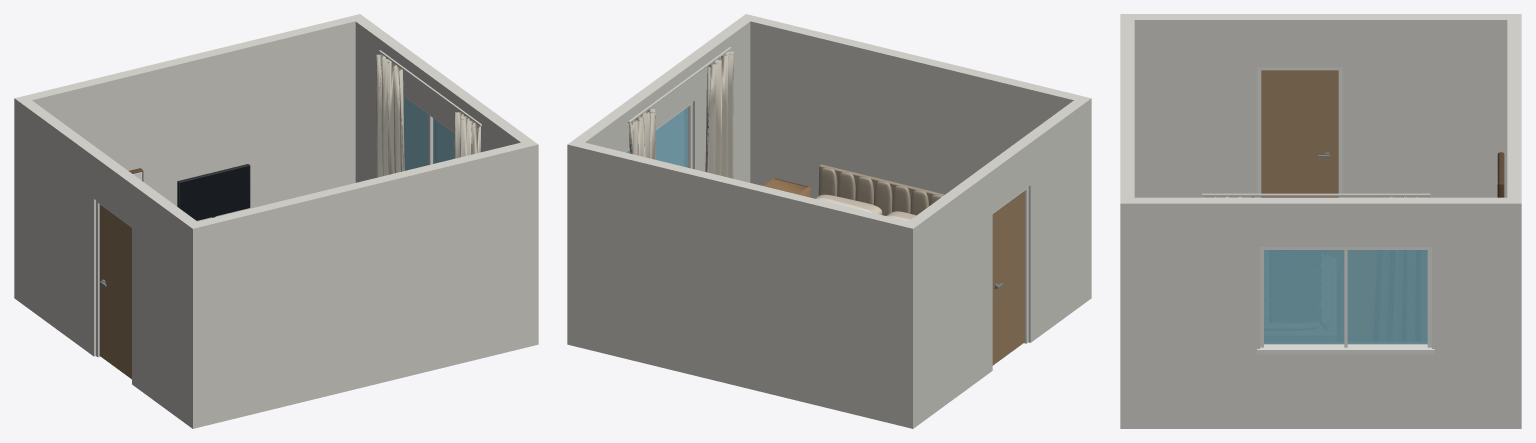
Rendered from oursv11b.glb.
The picture shows the model from 3 angles, left to right: view 1: azimuth 30°, elevation 25°; view 2: azimuth 150°, elevation 25°; view 3: azimuth 270°, elevation 25°; orthographic projection. The views are drawn at different scales.
Visible parts, largest first — view 1: wall|scenesmith_047__R00|0, wall|scenesmith_047__R00|1, wall|scenesmith_047__R00|2, wall|scenesmith_047__R00|3, wall|scenesmith_047__R00|2 Door 0 | wood leaf, Option V2 softly draped left linen panel, Display image, wall|scenesmith_047__R00|3 Window 0 | glazing, wall|scenesmith_047__R00|2 Door 0 | jamb; view 2: wall|scenesmith_047__R00|1, wall|scenesmith_047__R00|0, wall|scenesmith_047__R00|2, wall|scenesmith_047__R00|3, wall|scenesmith_047__R00|2 Door 0 | wood leaf, Option V2 softly draped left linen panel, V2 padded headboard backing, wall|scenesmith_047__R00|3 Window 0 | glazing, wall|scenesmith_047__R00|2 Door 0 | jamb, V2 rear sleeping pillow; view 3: wall|scenesmith_047__R00|3, wall|scenesmith_047__R00|2, wall|scenesmith_047__R00|3 Window 0 | glazing, wall|scenesmith_047__R00|2 Door 0 | wood leaf, wall|scenesmith_047__R00|1, wall|scenesmith_047__R00|0, wall|scenesmith_047__R00|3 Window 0 | jamb, wall|scenesmith_047__R00|2 Door 0 | jamb, Option V2 continuous curtain track.
Part boxes in pixels (bbox=[...]): wall|scenesmith_047__R00|0: bbox=[187, 140, 538, 428]; wall|scenesmith_047__R00|1: bbox=[15, 14, 365, 221]; wall|scenesmith_047__R00|2: bbox=[14, 98, 203, 428]; wall|scenesmith_047__R00|3: bbox=[353, 16, 534, 182]; wall|scenesmith_047__R00|2 Door 0 | wood leaf: bbox=[99, 204, 131, 379]; Option V2 softly draped left linen panel: bbox=[376, 54, 480, 177]; Display image: bbox=[179, 166, 249, 220]; wall|scenesmith_047__R00|3 Window 0 | glazing: bbox=[403, 96, 454, 170]; wall|scenesmith_047__R00|2 Door 0 | jamb: bbox=[96, 200, 131, 357]; wall|scenesmith_047__R00|1: bbox=[567, 140, 918, 428]; wall|scenesmith_047__R00|0: bbox=[740, 14, 1090, 198]; wall|scenesmith_047__R00|2: bbox=[902, 98, 1091, 428]; wall|scenesmith_047__R00|3: bbox=[571, 14, 755, 182]; wall|scenesmith_047__R00|2 Door 0 | wood leaf: bbox=[992, 191, 1024, 365]; Option V2 softly draped left linen panel: bbox=[629, 51, 733, 178]; V2 padded headboard backing: bbox=[818, 164, 944, 215]; wall|scenesmith_047__R00|3 Window 0 | glazing: bbox=[626, 107, 687, 167]; wall|scenesmith_047__R00|2 Door 0 | jamb: bbox=[992, 187, 1028, 343]; V2 rear sleeping pillow: bbox=[815, 194, 916, 219]; wall|scenesmith_047__R00|3: bbox=[1120, 197, 1520, 428]; wall|scenesmith_047__R00|2: bbox=[1134, 14, 1507, 197]; wall|scenesmith_047__R00|3 Window 0 | glazing: bbox=[1264, 250, 1427, 344]; wall|scenesmith_047__R00|2 Door 0 | wood leaf: bbox=[1261, 70, 1338, 197]; wall|scenesmith_047__R00|1: bbox=[1507, 14, 1521, 428]; wall|scenesmith_047__R00|0: bbox=[1120, 14, 1134, 428]; wall|scenesmith_047__R00|3 Window 0 | jamb: bbox=[1257, 247, 1434, 354]; wall|scenesmith_047__R00|2 Door 0 | jamb: bbox=[1257, 67, 1342, 197]; Option V2 continuous curtain track: bbox=[1202, 193, 1430, 196].
Bounding box in the file's own units: 4.73 × 2.61 × 4.2.
